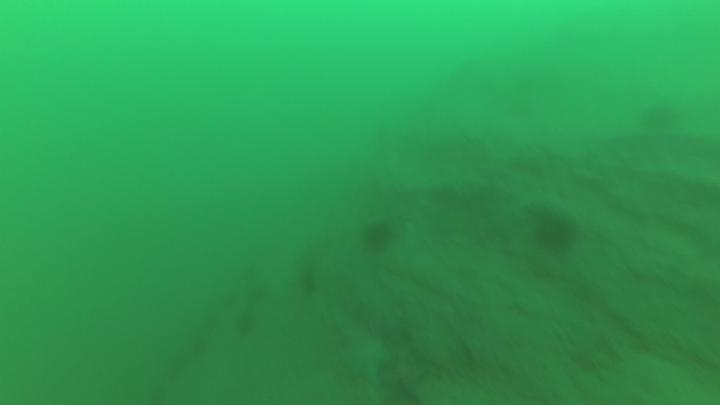echinus: (528, 205, 581, 259), (358, 218, 397, 257)
